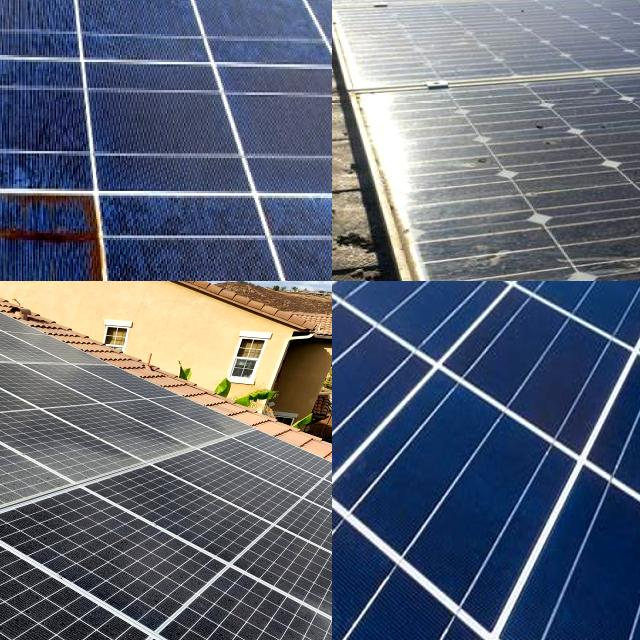bird: (516, 104, 582, 160), (456, 143, 507, 184)
crack: (332, 281, 640, 640)
dust: (70, 488, 240, 600), (0, 452, 118, 532), (0, 548, 44, 640)
shadow: (0, 171, 121, 281)
